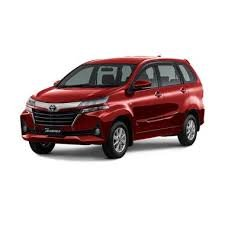mobil: (19, 53, 208, 157)
